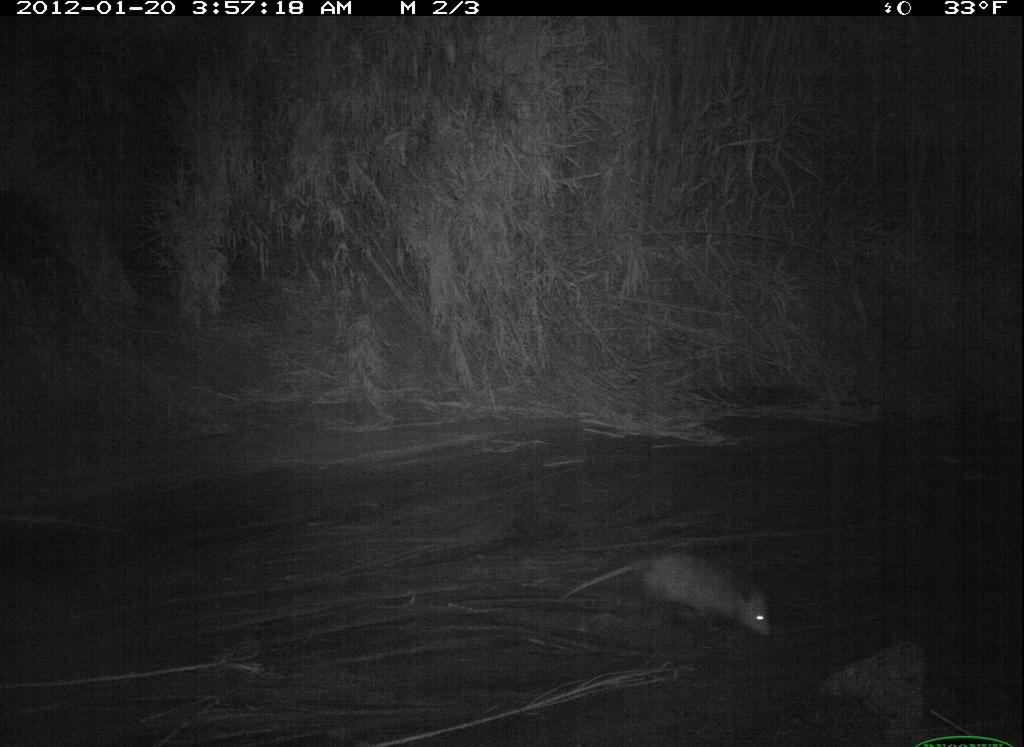opossum: (564, 527, 786, 665)
